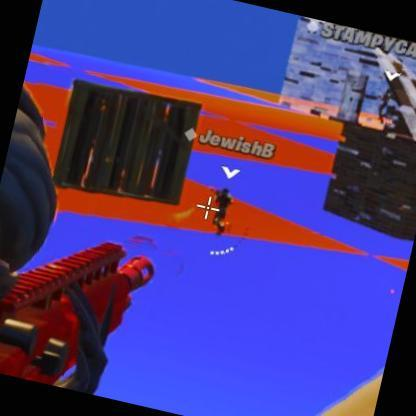person: (202, 182, 236, 230)
